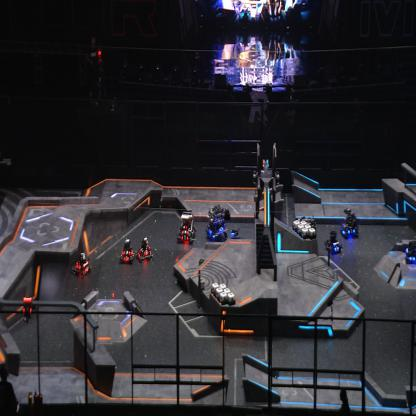car: (205, 204, 228, 241), (338, 207, 360, 239), (176, 210, 196, 244), (296, 216, 317, 247), (135, 235, 153, 264), (72, 252, 92, 278), (118, 238, 135, 266), (324, 230, 343, 254), (229, 227, 245, 249), (404, 239, 416, 265)
